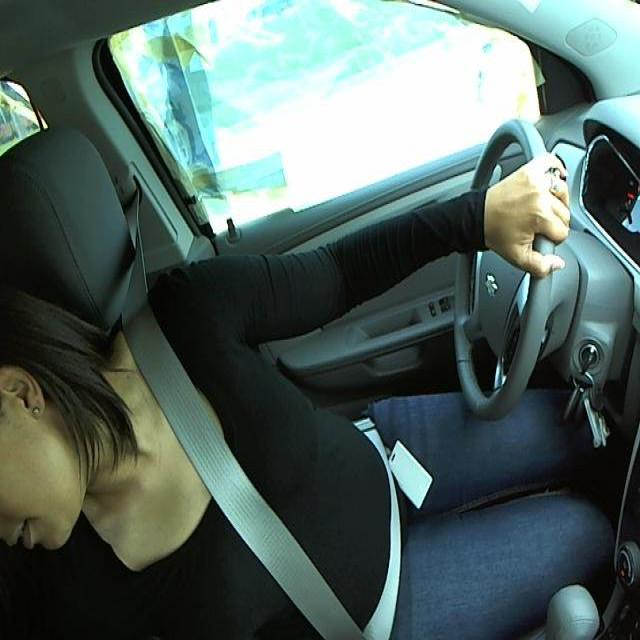seatbelt: (167, 378, 374, 638)
